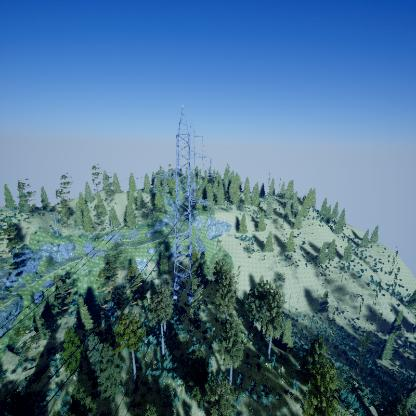tower: (151, 105, 216, 307)
